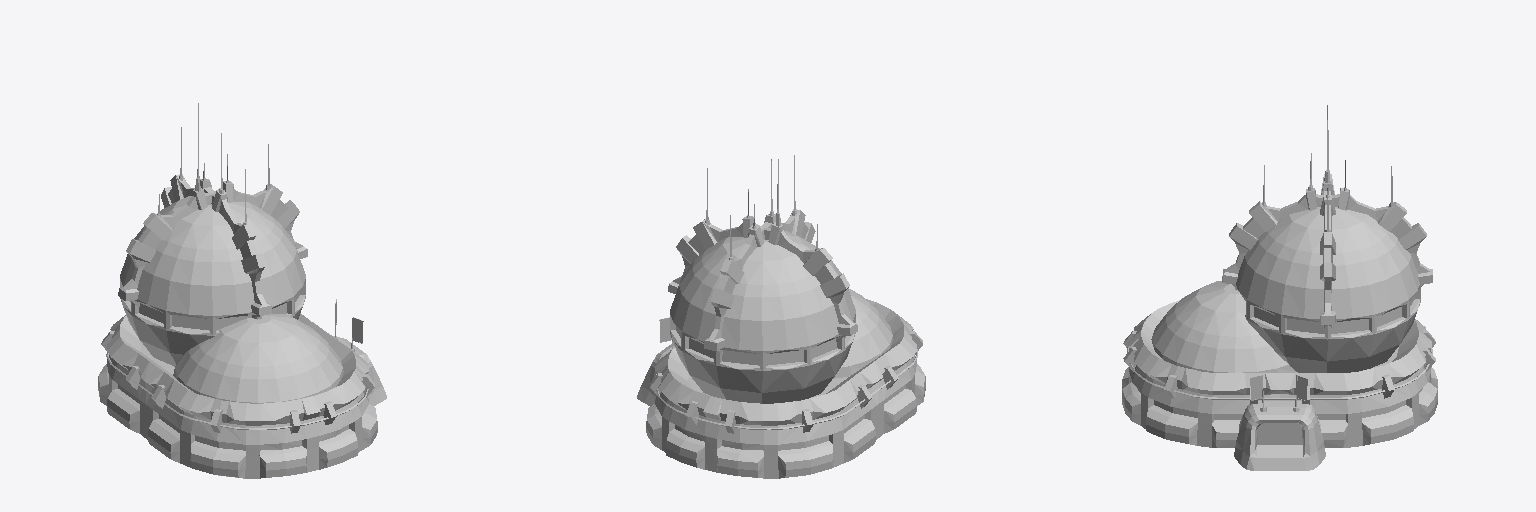
Rendered from bld-08-interior-done_obj.obj.
3 views of the same model, side by side, from view 1: azimuth 30°, elevation 25°; view 2: azimuth 150°, elevation 25°; view 3: azimuth 270°, elevation 25° (orthographic).
Parts seen in each view (by area): view 1: bld-08; view 2: bld-08; view 3: bld-08, bld-08-door.
Boxes of the visible parts, <box> form: bld-08: <box>98,103,386,478</box>; bld-08: <box>637,155,925,478</box>; bld-08: <box>1122,105,1437,470</box>; bld-08-door: <box>1257,423,1302,444</box>.
Bounding box in the file's own units: 10.5 × 13.69 × 12.28.